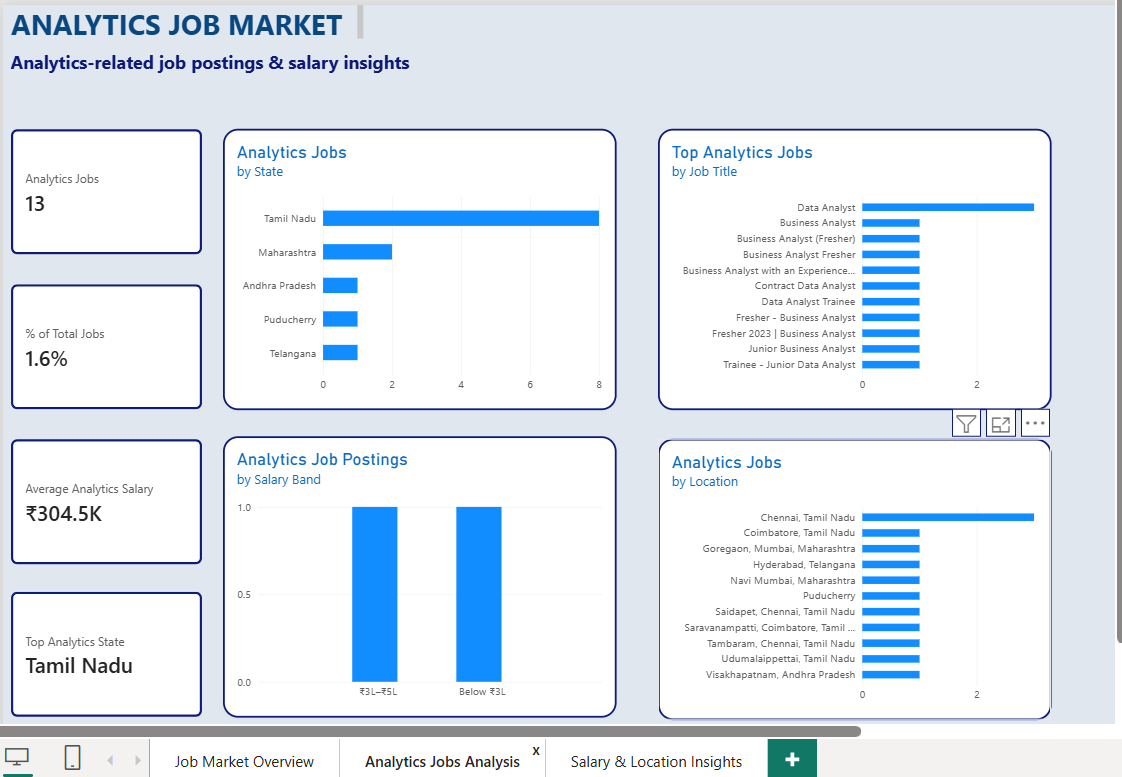

This screenshot's page, from the dashboard's own definition file:
{"tool":"powerbi","page":{"name":"Analytics Jobs Analysis","canvas":[1920,1080],"ordinal":1},"visuals":[{"type":"textbox","box":[10,0,470,60],"z":0},{"type":"textbox","box":[10,60,566.7,260],"z":1000},{"type":"cardVisual","fields":{"Data":["CountNonNull(job_market_cleaned.Job Title)"]},"box":[10,165,256.7,168.3],"z":2000},{"type":"cardVisual","fields":{"Data":["job_market_cleaned.Analytics Job Percentage"]},"box":[10,371.7,256.7,168.3],"z":3000},{"type":"cardVisual","fields":{"Data":["job_market_cleaned.Average Analytics Salary"]},"box":[10,578.3,256.7,168.3],"z":4000},{"type":"cardVisual","fields":{"Data":["job_market_cleaned.Top Analytics State"]},"box":[10,781.7,256.7,168.3],"z":5000},{"type":"clusteredBarChart","fields":{"Category":["job_market_cleaned.State"],"Y":["CountNonNull(job_market_cleaned.Job Title)"]},"box":[293.3,165,525,375],"z":6000},{"type":"clusteredBarChart","fields":{"Category":["job_market_cleaned.Job Title"],"Y":["CountNonNull(job_market_cleaned.Job Title)"]},"box":[873.3,165,525,375],"z":7000},{"type":"clusteredColumnChart","fields":{"Category":["job_market_cleaned.Salary Band"],"Y":["CountNonNull(job_market_cleaned.Job Title)"]},"box":[293.3,575,525,375],"z":8000},{"type":"clusteredBarChart","fields":{"Category":["job_market_cleaned.Location"],"Y":["CountNonNull(job_market_cleaned.Job Title)"]},"box":[873.3,578.3,525,375],"z":9000}]}

Visuals, with their boxes on the page's 1920x1080 design canvas (x1, y1, x2, y2). These are canvas units, not pixel positions in the 1122x777 screenshot, which may show the page scaled, cropped or inside an application window:
textbox: bbox=(10, 0, 480, 60)
textbox: bbox=(10, 60, 577, 320)
cardVisual - CountNonNull(job_market_cleaned.Job Title): bbox=(10, 165, 267, 333)
cardVisual - job_market_cleaned.Analytics Job Percentage: bbox=(10, 372, 267, 540)
cardVisual - job_market_cleaned.Average Analytics Salary: bbox=(10, 578, 267, 747)
cardVisual - job_market_cleaned.Top Analytics State: bbox=(10, 782, 267, 950)
clusteredBarChart - job_market_cleaned.State x CountNonNull(job_market_cleaned.Job Title): bbox=(293, 165, 818, 540)
clusteredBarChart - job_market_cleaned.Job Title x CountNonNull(job_market_cleaned.Job Title): bbox=(873, 165, 1398, 540)
clusteredColumnChart - job_market_cleaned.Salary Band x CountNonNull(job_market_cleaned.Job Title): bbox=(293, 575, 818, 950)
clusteredBarChart - job_market_cleaned.Location x CountNonNull(job_market_cleaned.Job Title): bbox=(873, 578, 1398, 953)
